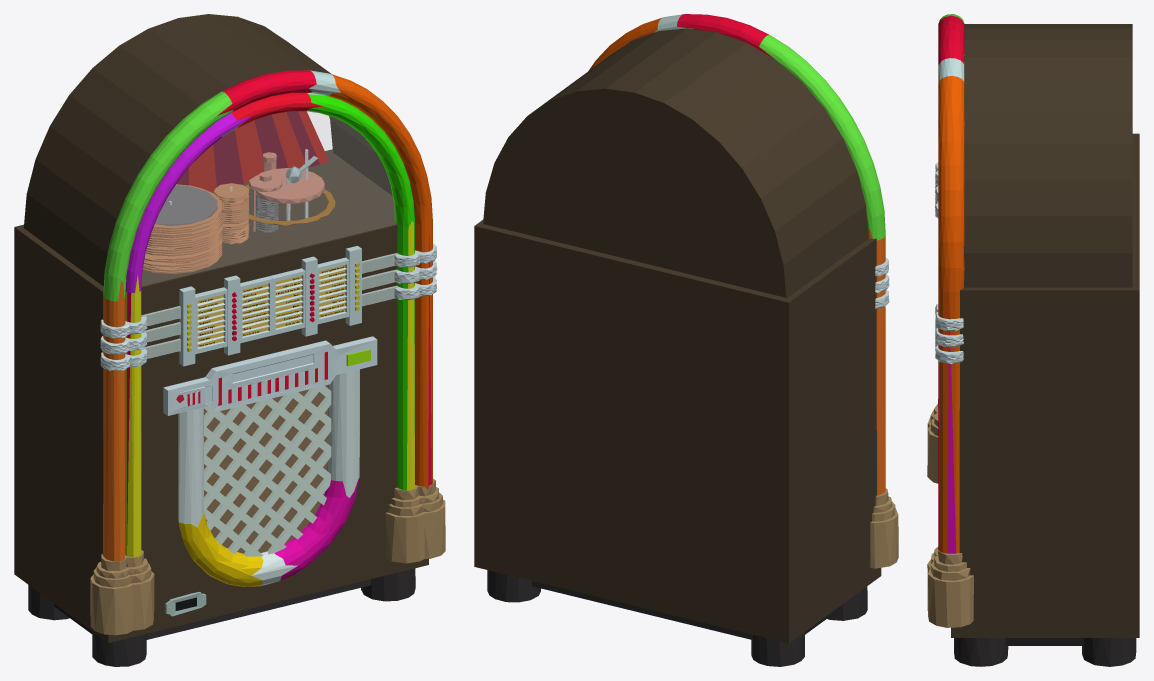
Rendered from jukebox.gltf.
3 views of the same model, side by side, from view 1: azimuth 30°, elevation 25°; view 2: azimuth 150°, elevation 25°; view 3: azimuth 270°, elevation 25° (orthographic). The views are drawn at different scales.
Visible parts, largest first — view 1: Box, Glass; view 2: Box; view 3: Box.
Boxes of the visible parts, x1,y1,x2,y2 form: Box: (14,14,445,666); Glass: (142,111,396,285); Box: (474,14,898,666); Box: (927,14,1139,666).
Size of the model in its own units: 3.01 by 4.6 by 1.58.
